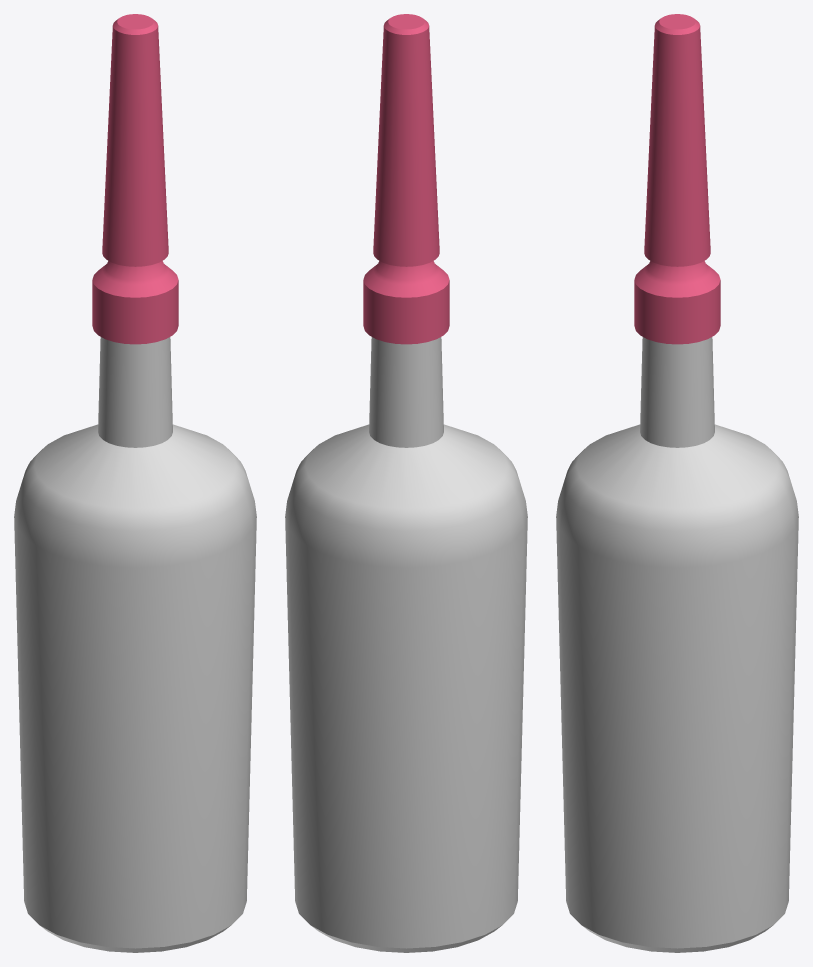
File: FBX_Glycerine.fbx
The picture shows the model from 3 angles, left to right: view 1: azimuth 30°, elevation 25°; view 2: azimuth 150°, elevation 25°; view 3: azimuth 270°, elevation 25°; orthographic projection.
Parts seen in each view (by area): view 1: SM_Glycerine_body, SM_Glycerine_cap, SM_Glycerine_head; view 2: SM_Glycerine_body, SM_Glycerine_cap, SM_Glycerine_head; view 3: SM_Glycerine_body, SM_Glycerine_cap, SM_Glycerine_head.
Boxes of the visible parts, x1,y1,x2,y2 form: SM_Glycerine_body: (14, 337, 256, 952); SM_Glycerine_cap: (102, 14, 168, 266); SM_Glycerine_head: (92, 261, 178, 344); SM_Glycerine_body: (285, 337, 527, 952); SM_Glycerine_cap: (373, 14, 439, 266); SM_Glycerine_head: (363, 261, 449, 344); SM_Glycerine_body: (556, 337, 798, 952); SM_Glycerine_cap: (644, 14, 710, 266); SM_Glycerine_head: (634, 261, 720, 344).
Size of the model in its own units: 0.0276 by 0.1113 by 0.0276.
